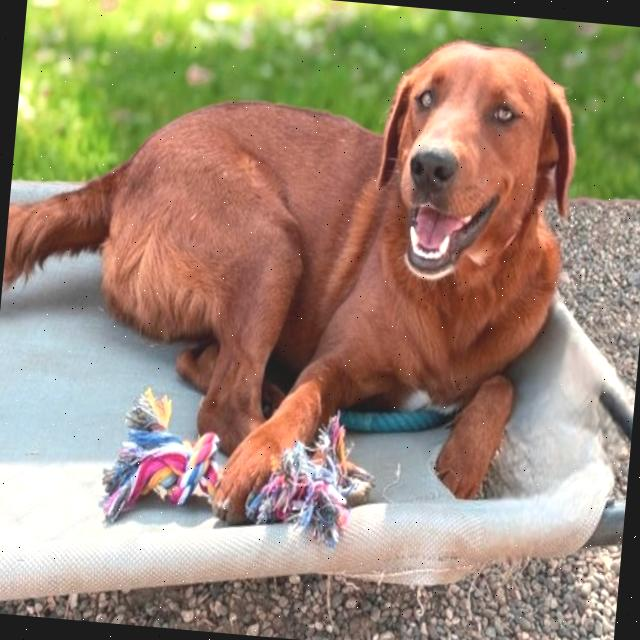labrador_retriever_dog: (341, 20, 597, 314)
